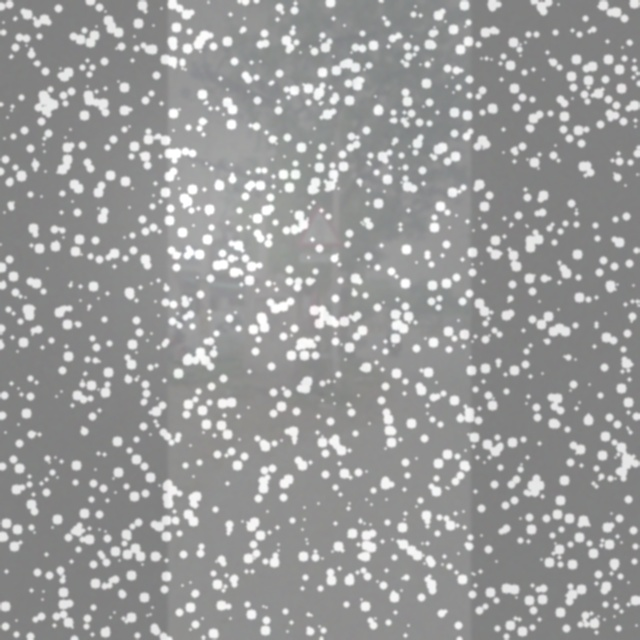Narrow_Road_Ahead: (297, 204, 342, 248)
